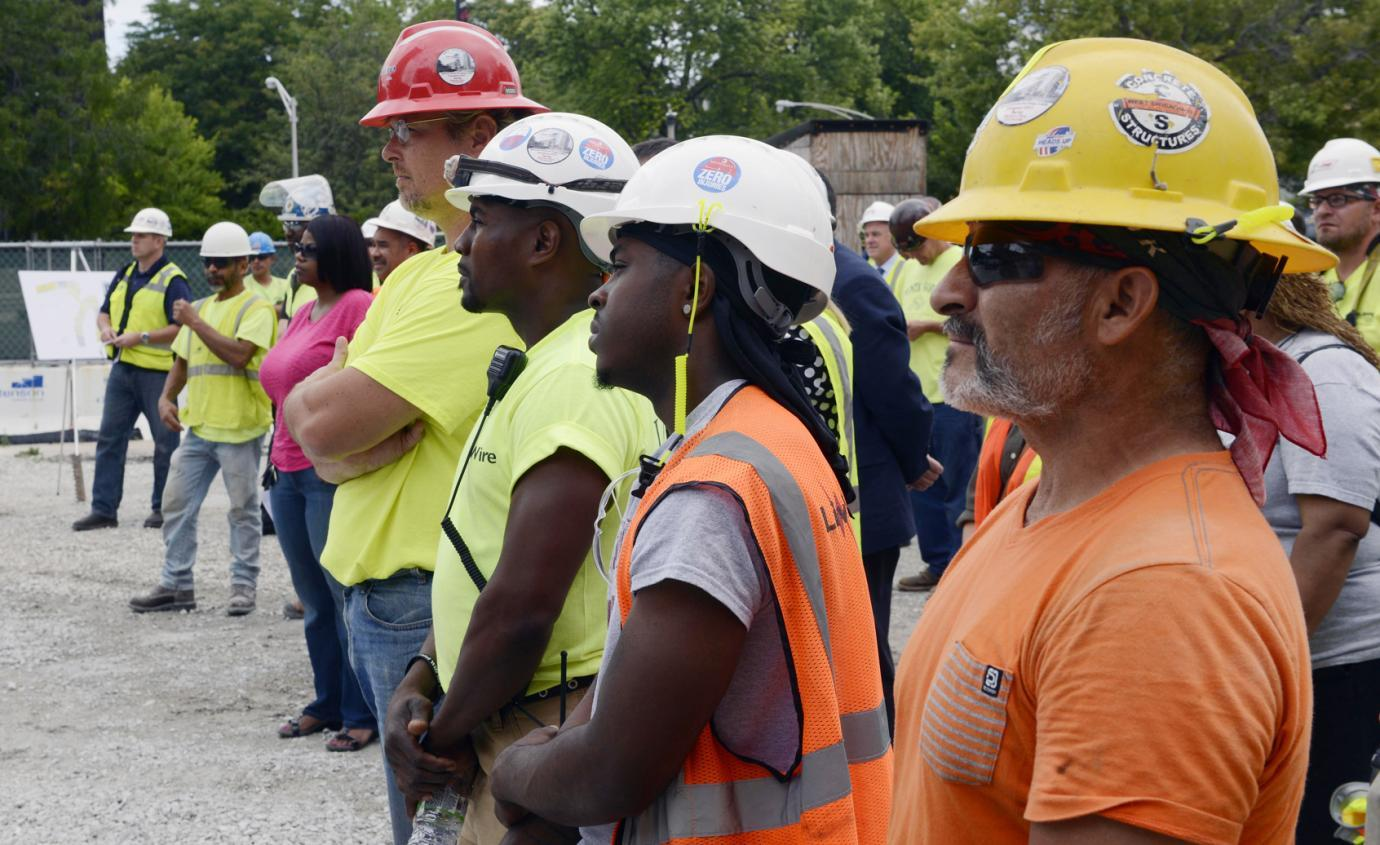helmet: (919, 36, 1339, 272), (594, 134, 830, 277), (456, 111, 645, 246), (360, 25, 546, 114), (1302, 130, 1380, 197), (196, 224, 250, 261), (130, 211, 174, 241), (857, 204, 897, 230), (249, 232, 274, 260)
